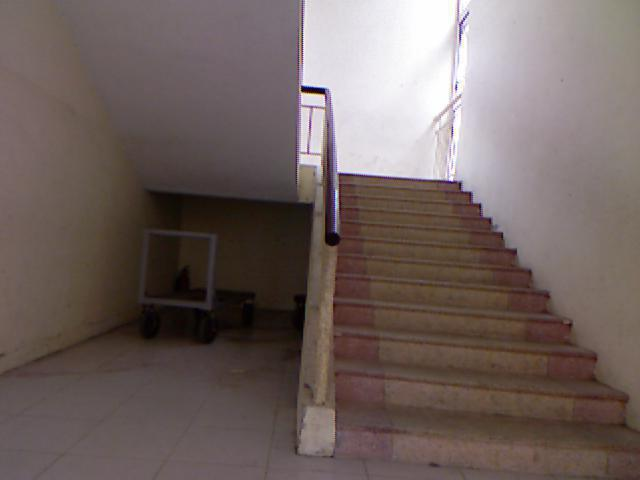Escaleras: (311, 162, 639, 475)
